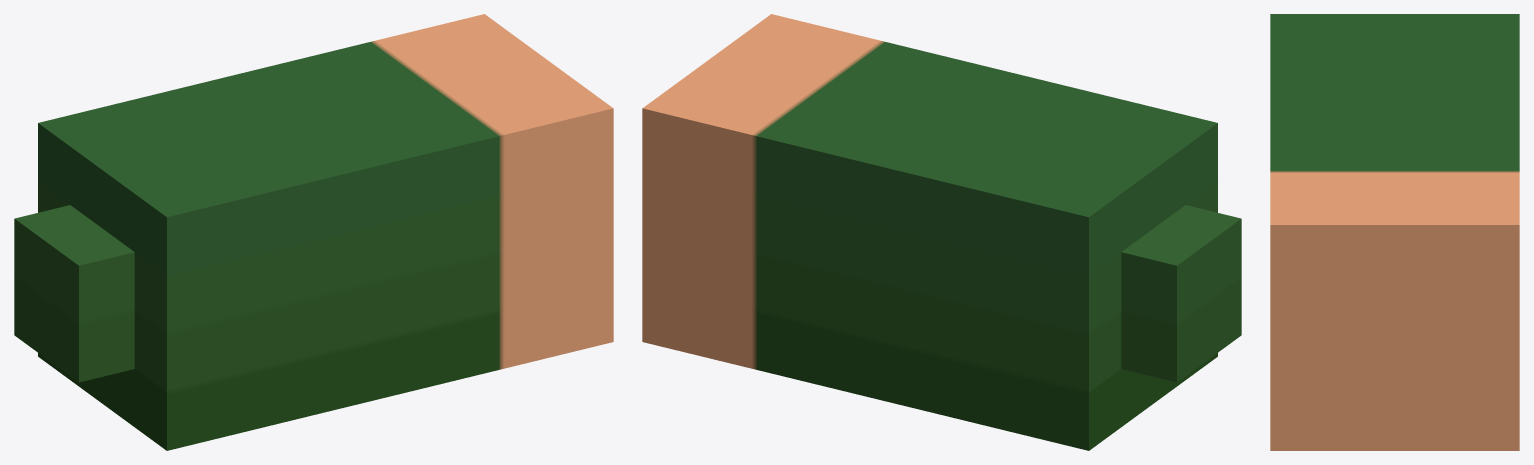
The model's file is Elbow067.fbx.
3 renders of one model, left to right at view 1: azimuth 30°, elevation 25°; view 2: azimuth 150°, elevation 25°; view 3: azimuth 270°, elevation 25°, orthographic. The views are drawn at different scales.
Visible parts, largest first — view 1: Elbow067; view 2: Elbow067; view 3: Elbow067.
Part boxes in pixels (x1=…): Elbow067: x1=14, y1=14, x2=613, y2=450; Elbow067: x1=642, y1=14, x2=1241, y2=450; Elbow067: x1=1270, y1=14, x2=1519, y2=450.
Size of the model in its own units: 9 by 4 by 4.
